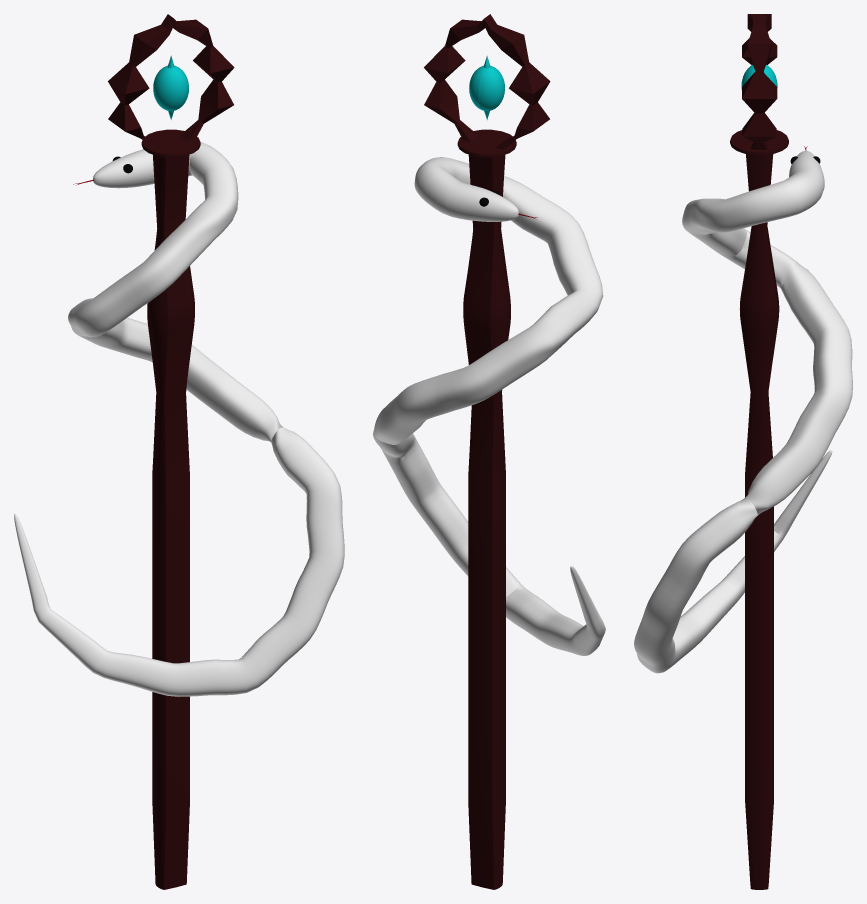
File: SnakeWand.fbx
3 views of the same model, side by side, from view 1: azimuth 30°, elevation 25°; view 2: azimuth 150°, elevation 25°; view 3: azimuth 270°, elevation 25° (orthographic).
Visible parts, largest first — view 1: Snake.005, Wand; view 2: Wand, Snake.005; view 3: Snake.005, Wand.
Part boxes in pixels (<box>): Snake.005: <box>14,142,344,696</box>; Wand: <box>108,14,234,889</box>; Wand: <box>424,14,550,889</box>; Snake.005: <box>373,157,605,655</box>; Snake.005: <box>634,151,852,673</box>; Wand: <box>730,14,788,889</box>.
Bounding box in the file's own units: 0.9341 × 2.94 × 0.6714.
